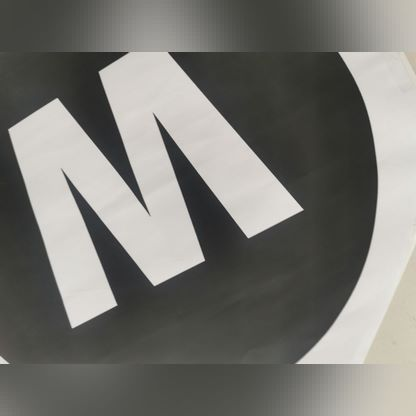W: (1, 47, 333, 352)
